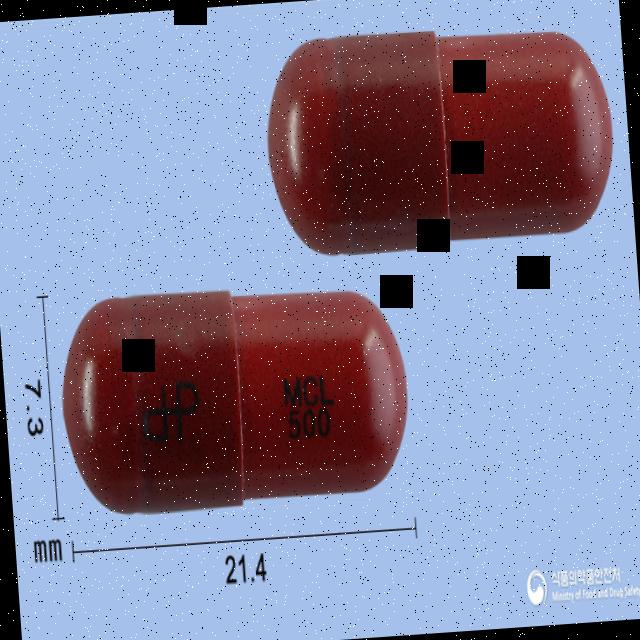Cephamethyl Cap: (52, 266, 418, 521)
